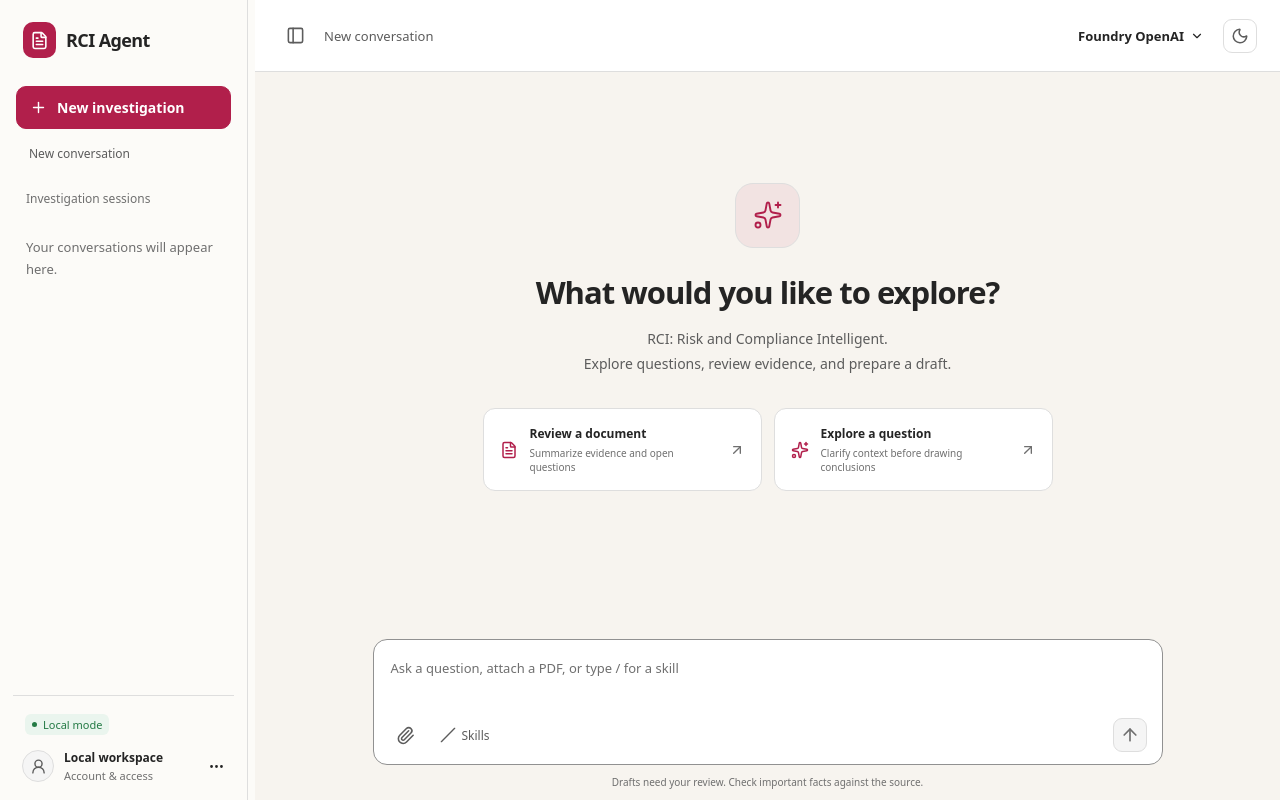
Test: starts ordinary chat from Review a document without retaining a selected skill
Click the button with aria-label "Choose a skill" at (464,735), box [432,720,498,750]
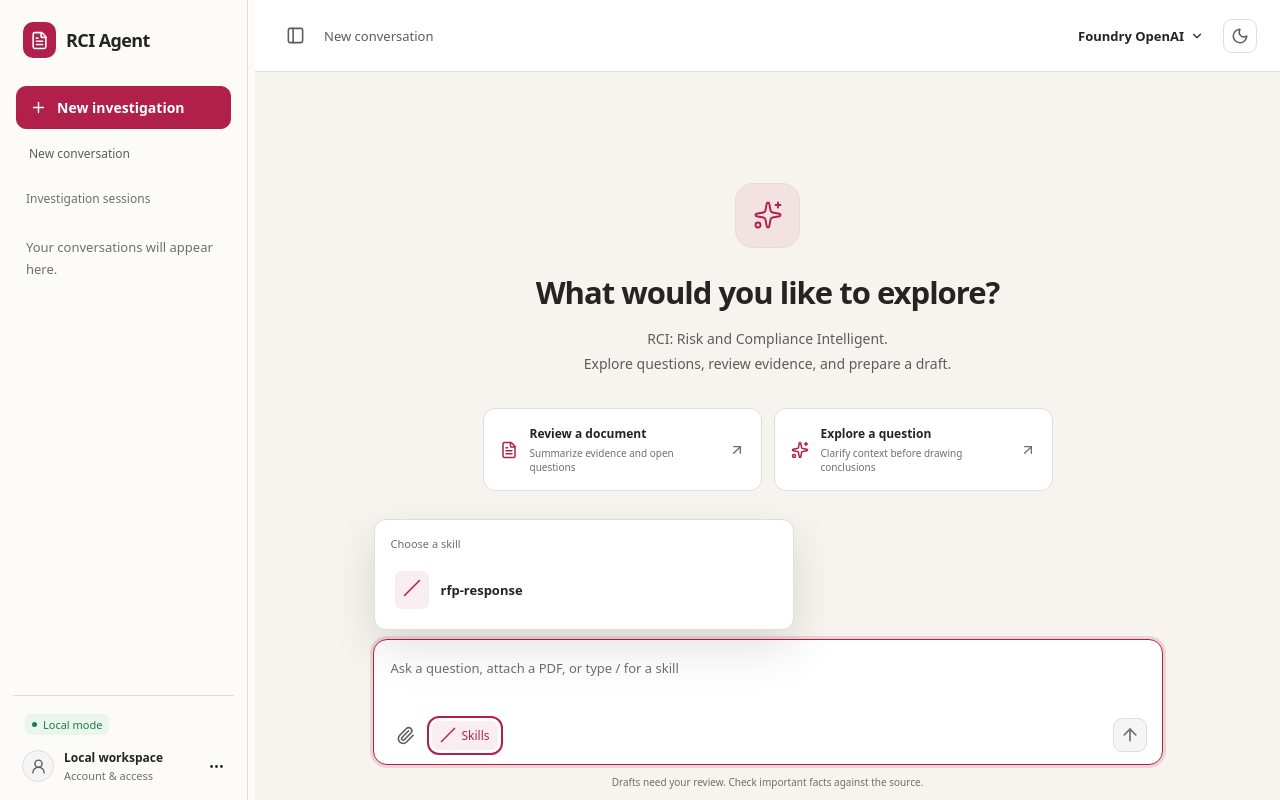
Click the option "rfp-response" at (412,590), box [382,559,784,621]
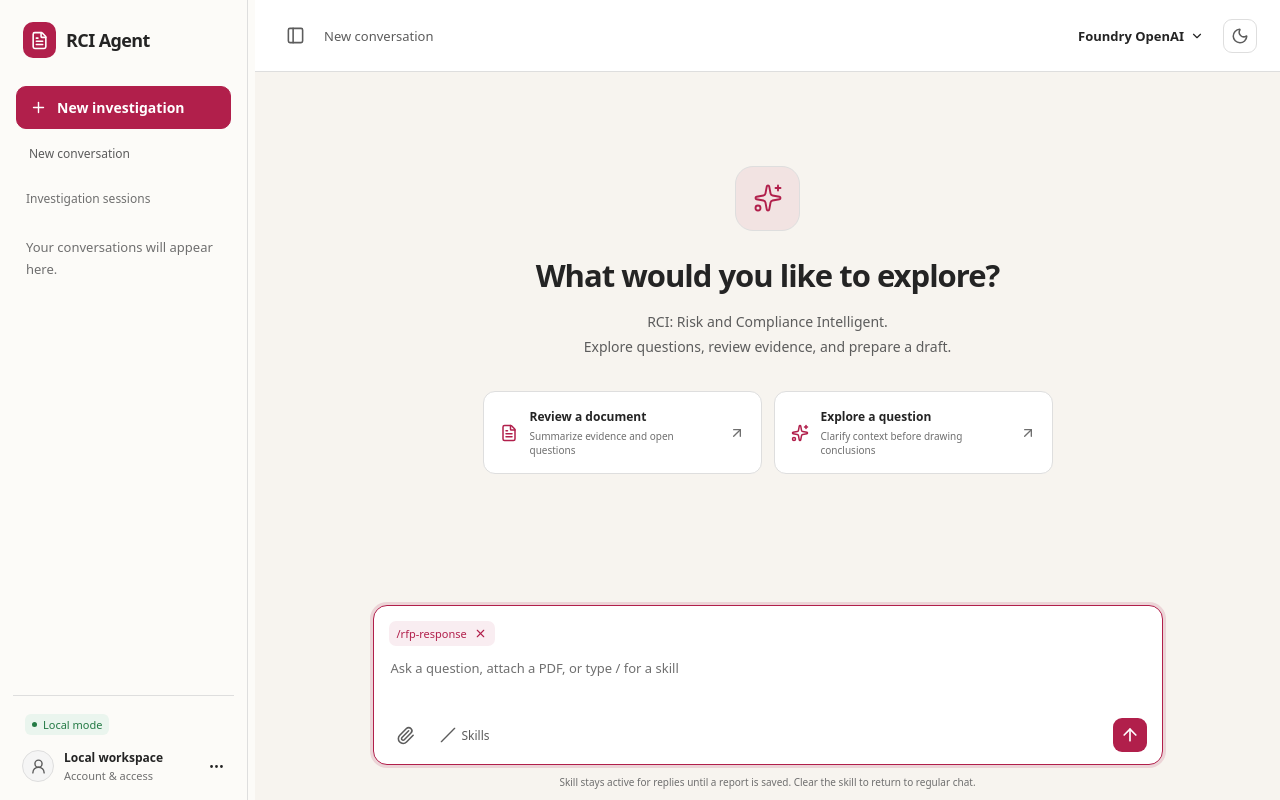
Click the button "Review a document Summarize evidence and open questions" at (622,433), box [482,391,762,474]
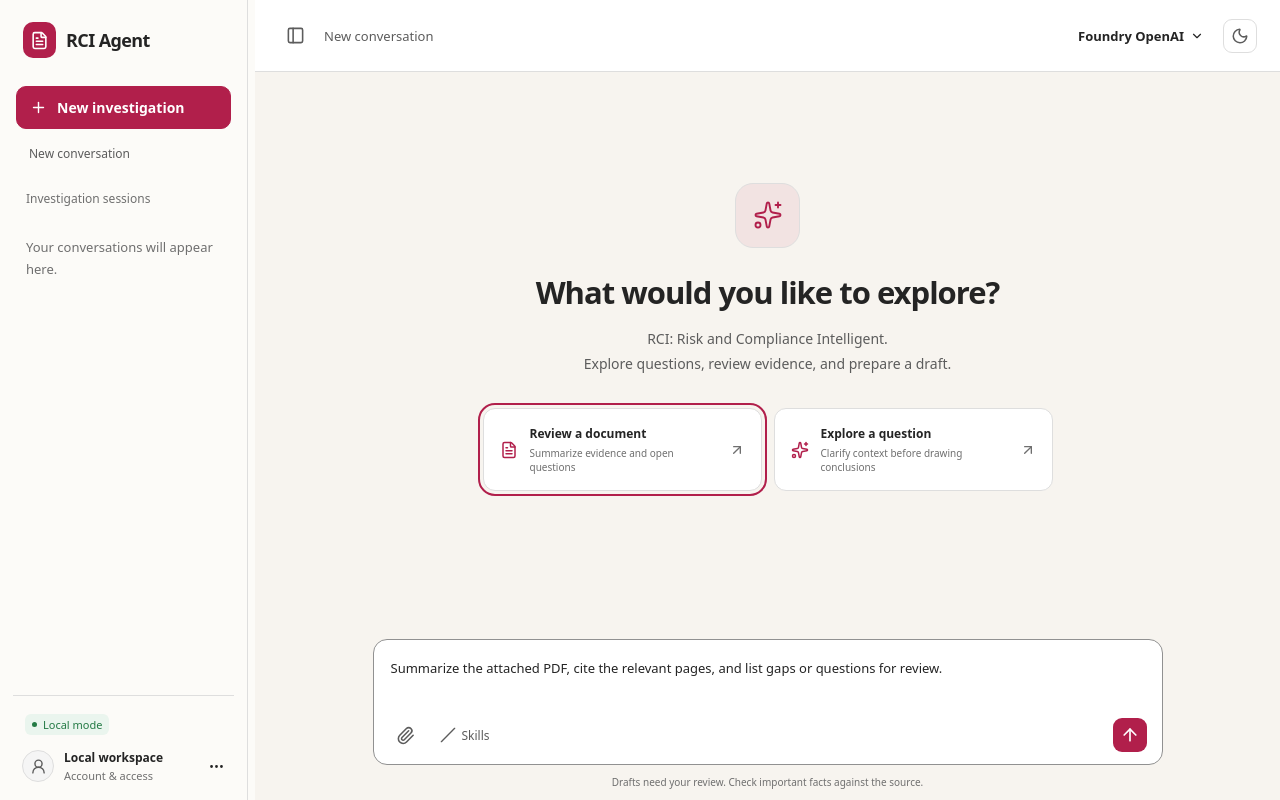
Expected: the text box named "Message" holds "Summarize the attached PDF, cite the relevant pages, and list gaps or questions for review.", [388,655,1146,710]
